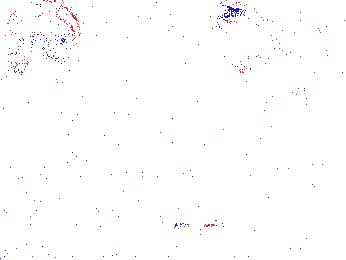moon jellyfish: (10, 48, 88, 119), (288, 1, 346, 86), (3, 1, 82, 57), (219, 13, 281, 81)
